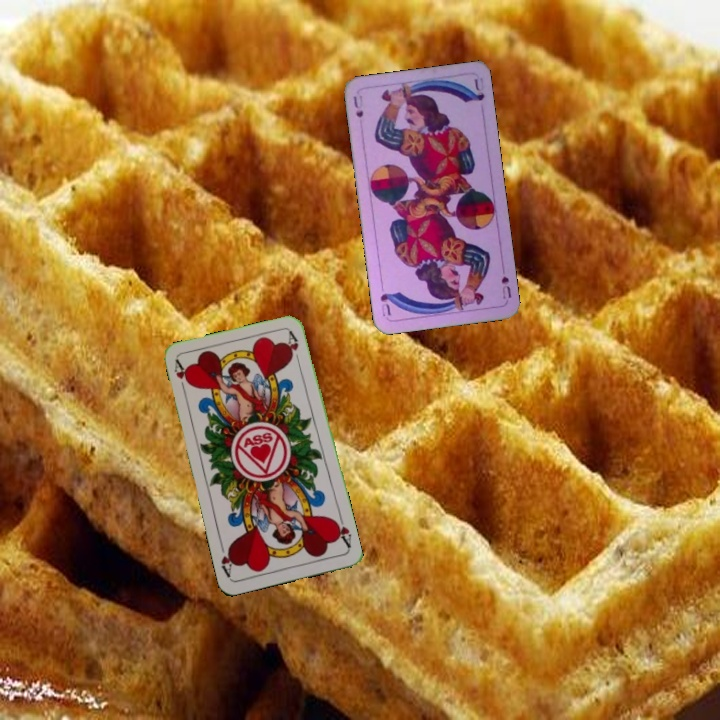HA: (329, 511, 354, 551), (170, 357, 193, 397)
SU: (349, 91, 366, 120), (497, 272, 514, 301)
